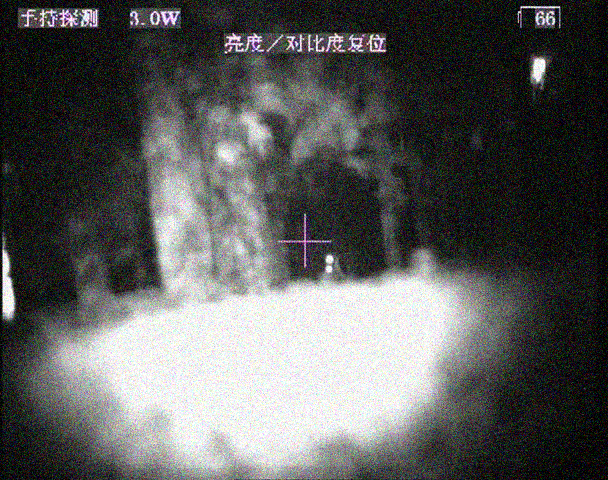my: (325, 253, 334, 264), (323, 264, 333, 272)
